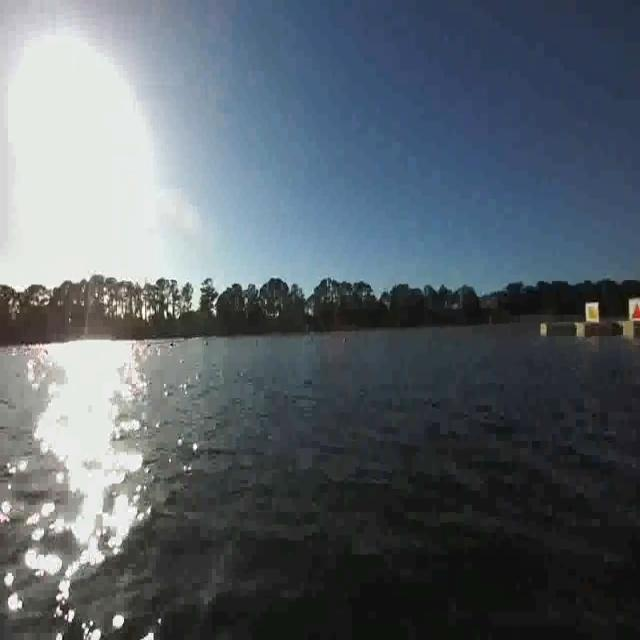red-dot: (629, 302, 640, 321)
yellow-duck: (587, 304, 600, 329)
